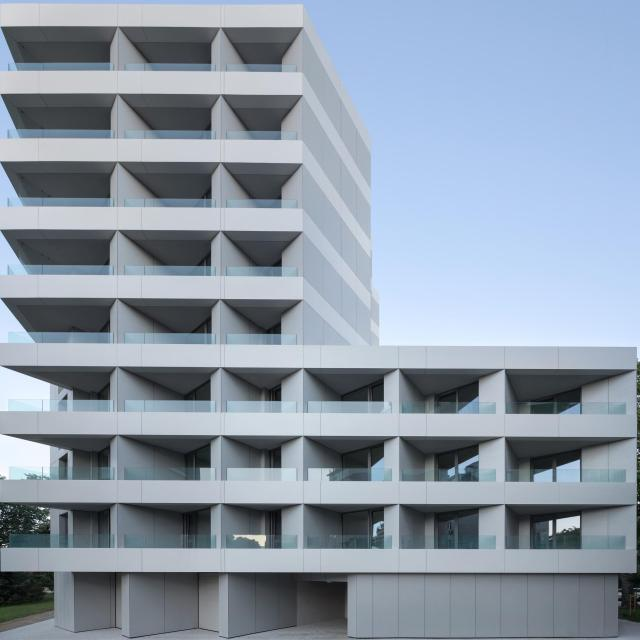railing: (506, 400, 628, 416), (508, 534, 628, 550), (9, 532, 116, 549), (507, 468, 628, 483), (6, 398, 115, 411), (7, 331, 114, 344), (9, 466, 114, 479), (399, 535, 495, 549), (401, 468, 496, 482), (124, 467, 217, 481), (123, 533, 216, 547), (123, 265, 217, 278), (123, 332, 217, 345), (124, 400, 218, 413), (308, 535, 393, 549), (402, 401, 495, 413), (307, 467, 392, 480), (307, 401, 392, 414), (6, 197, 114, 207), (227, 535, 299, 549), (228, 467, 299, 481), (5, 62, 114, 71), (7, 266, 114, 275), (8, 128, 114, 137), (227, 401, 299, 414), (125, 197, 216, 207), (227, 266, 296, 278), (125, 131, 216, 140), (227, 198, 297, 209), (124, 62, 215, 70), (226, 130, 297, 140), (227, 334, 297, 344), (225, 64, 299, 72)
window: (341, 507, 387, 535), (531, 511, 582, 535), (436, 510, 480, 535), (341, 443, 383, 466), (342, 380, 385, 402), (531, 450, 582, 468), (437, 447, 478, 468), (437, 381, 479, 401), (185, 443, 211, 468), (185, 508, 210, 533), (183, 377, 210, 400), (539, 388, 583, 401), (270, 508, 282, 535), (271, 447, 281, 468), (270, 383, 281, 402)
